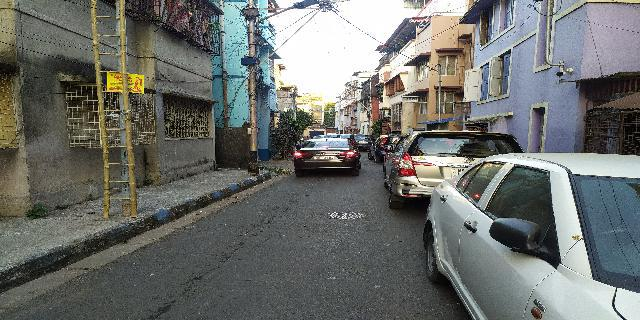Car: (415, 142, 640, 319), (389, 119, 526, 212), (291, 129, 369, 183)
